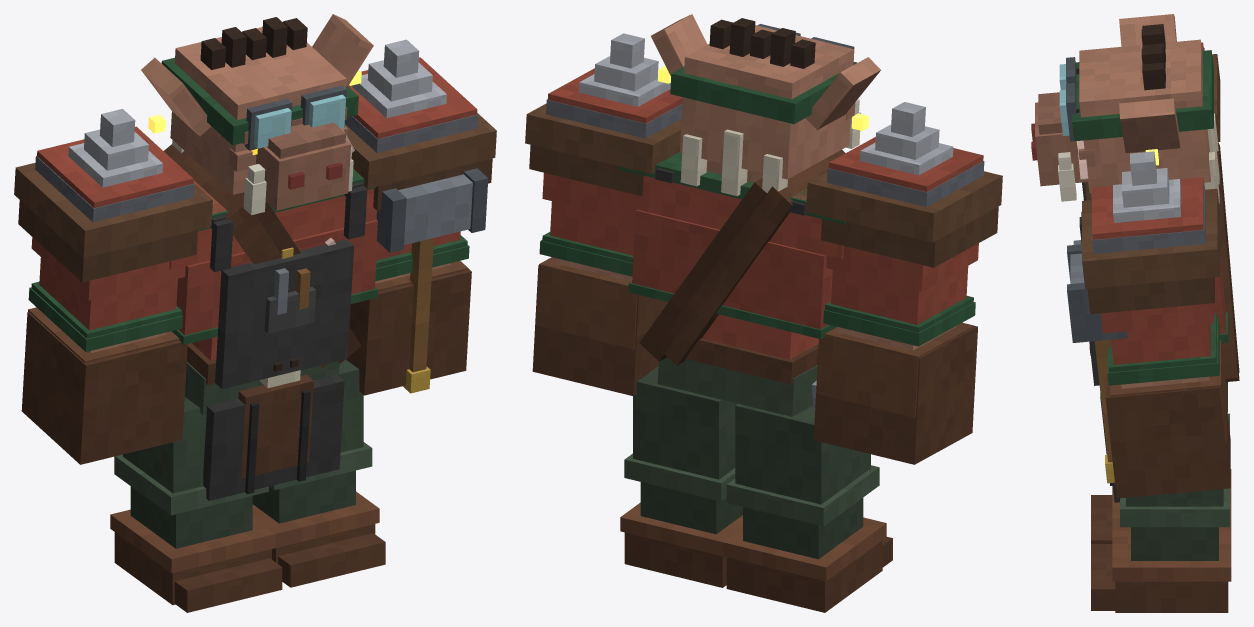
Rendered from orc_forgeron_v2.glb.
The picture shows the model from 3 angles, left to right: view 1: azimuth 30°, elevation 25°; view 2: azimuth 150°, elevation 25°; view 3: azimuth 270°, elevation 25°; orthographic projection. The views are drawn at different scales.
Visible parts, largest first — view 1: ArmR, Torso, Head, ArmL, LegR, LegL, HandL; view 2: ArmR, Torso, ArmL, LegR, Head, LegL; view 3: ArmL, Head, LegL, Torso, HandL, LegR, ArmR.
Boxes of the visible parts, left/top/right/bottom form: ArmR: left=14, top=109, right=212, bottom=464; Torso: left=164, top=140, right=377, bottom=500; Head: left=141, top=14, right=373, bottom=215; ArmL: left=345, top=39, right=496, bottom=395; LegR: left=110, top=397, right=282, bottom=612; LegL: left=252, top=359, right=385, bottom=587; HandL: left=376, top=168, right=488, bottom=393; ArmR: left=806, top=102, right=1002, bottom=464; Torso: left=619, top=129, right=845, bottom=416; ArmL: left=525, top=33, right=682, bottom=396; LegR: left=722, top=403, right=892, bottom=612; Head: left=651, top=14, right=880, bottom=182; LegL: left=620, top=366, right=742, bottom=587; ArmL: left=1082, top=151, right=1230, bottom=498; Head: left=1031, top=14, right=1213, bottom=201; LegL: left=1091, top=488, right=1231, bottom=612; Torso: left=1073, top=113, right=1239, bottom=502; HandL: left=1067, top=244, right=1127, bottom=483; LegR: left=1091, top=413, right=1231, bottom=543; ArmR: left=1201, top=42, right=1220, bottom=142.
Bounding box in the file's own units: 1.44 × 1.8 × 0.6473.
Materials: 44 (44 with a texture image).
